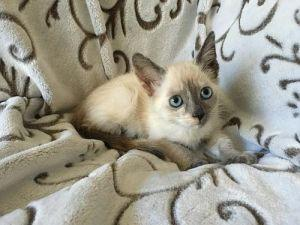siamese: (128, 31, 226, 139)
